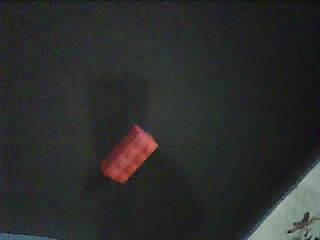lego: (98, 125, 158, 185)
